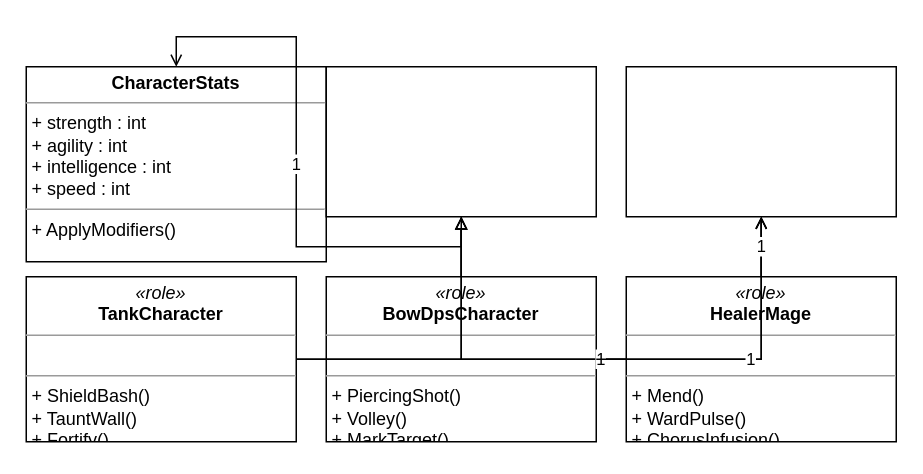
Some shapes in this 923 by 474 pixel diagram are drawn without their labels. The centre of each missing label's shape, as x and y in pixels:
CombatUnit # hp # posture + TakeDamage(): pixel 460 141
Weapon + tier : int + weaponType : enum + GetStatBonus(): pixel 760 141
